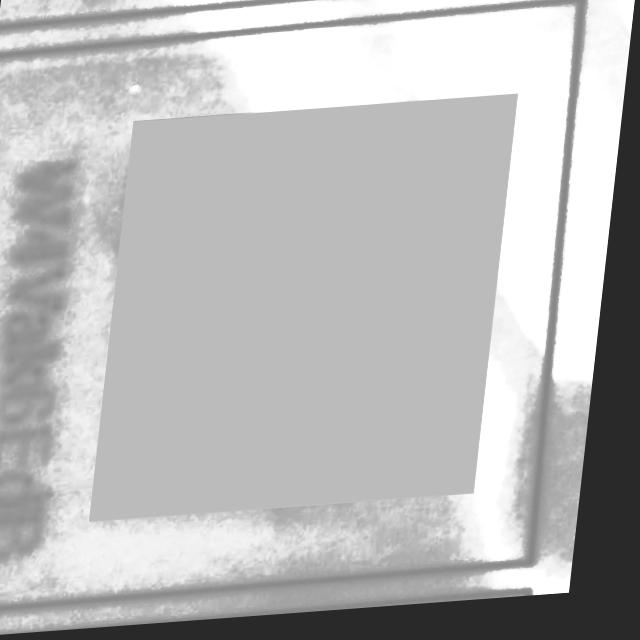qr_code: (100, 102, 520, 524)
